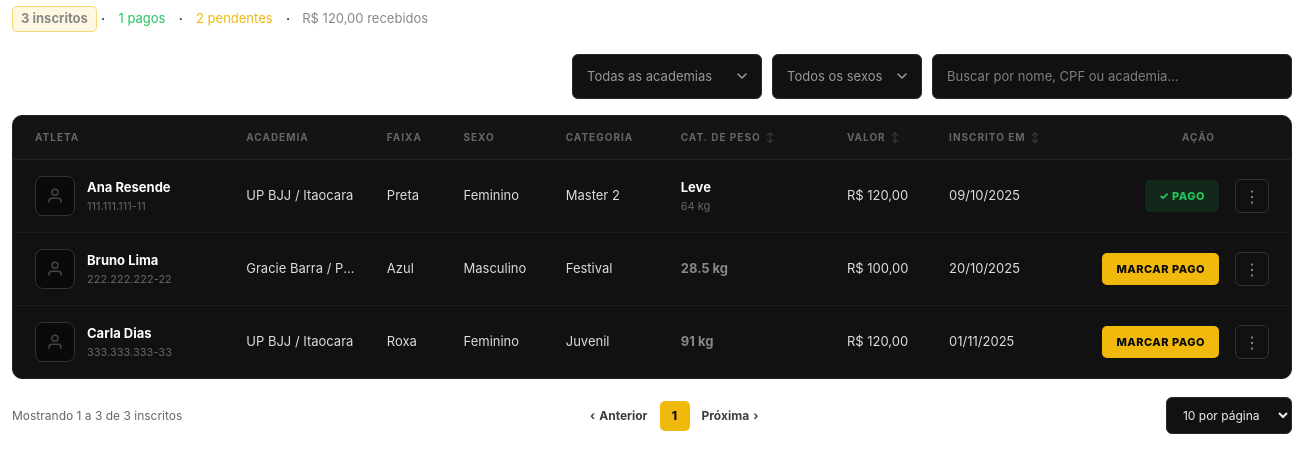
Test: Inscrições — filtros › filtra por sexo
This screenshot has width=1304, height=451.
Expected: the text "Ana Resende" is shown, [87,178,171,198]
Select "Masculino" in the dropdown named "Filtrar por sexo" at (847, 76), box [772,54,922,99]
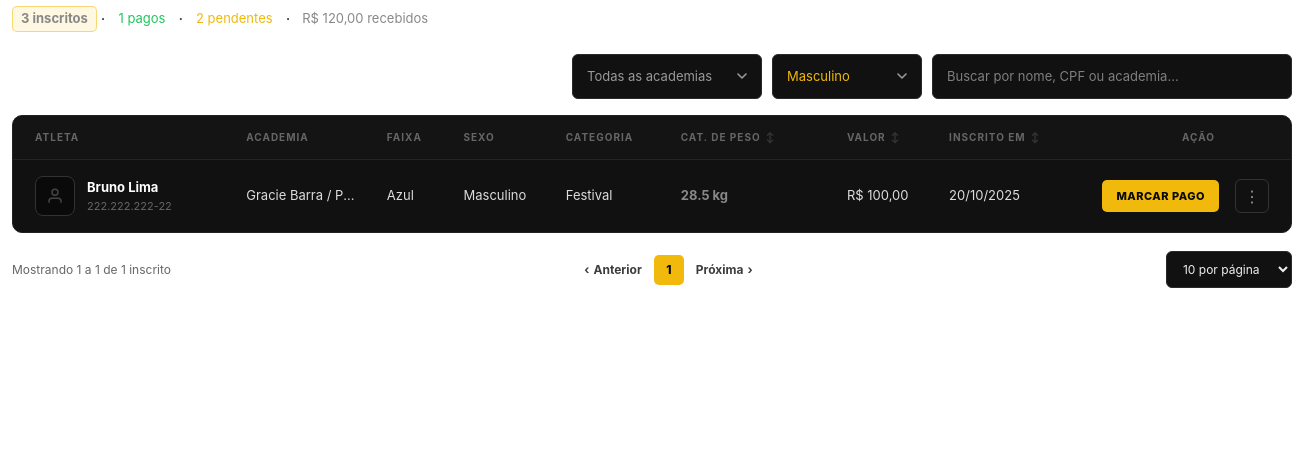
Expected: the text "Bruno Lima" is shown, [87,179,158,195]
Now the text "Carla Dias" is gone
